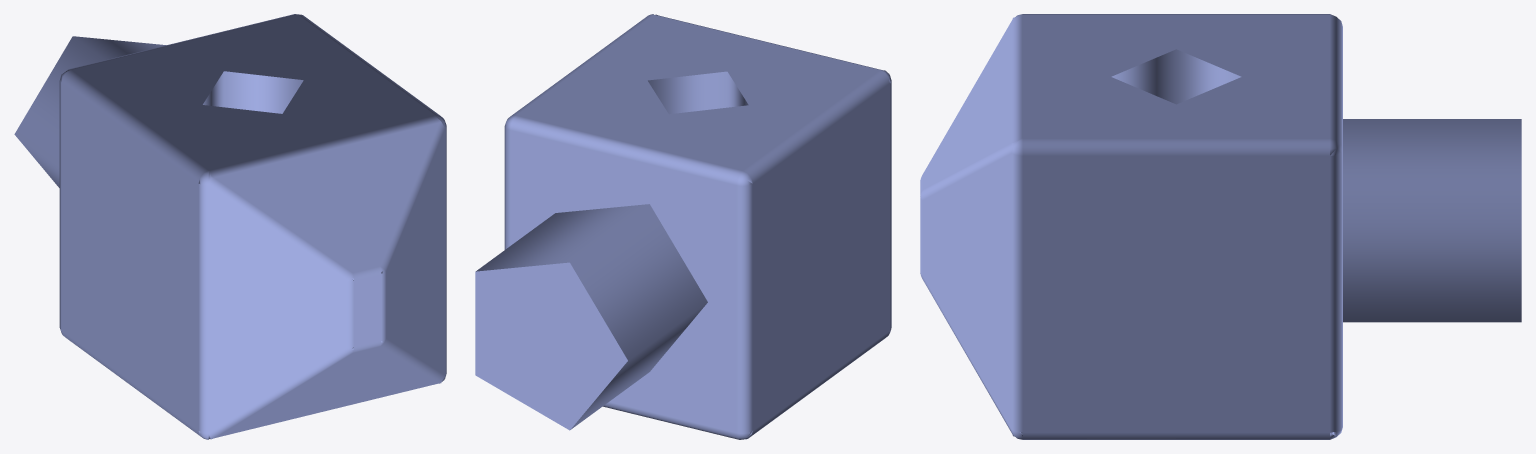
Rendered from Copie de Pi_X2_00e9_X0_ce pour pilier 1^Copie de ASS pilier 1_Horloge Comtoise Verge - Sonnerie.obj.
3 renders of one model, left to right at view 1: azimuth 30°, elevation 25°; view 2: azimuth 150°, elevation 25°; view 3: azimuth 270°, elevation 25°, orthographic. The views are drawn at different scales.
Parts seen in each view (by area): view 1: Face_9, Face_15, Face_31, Face_36, Face_35, Face_33, Face_1, Face_28, Face_16, Face_18, Face_26, Face_47 (+10 smaller); view 2: Face_9, Face_15, Face_2, Face_1, Face_3, Face_4, Face_7, Face_28, Face_16, Face_5, Face_6, Face_17 (+2 smaller); view 3: Face_13, Face_1, Face_15, Face_35, Face_36, Face_23, Face_28, Face_6, Face_24, Face_19, Face_7, Face_26 (+2 smaller).
Boxes of the visible parts, x1,y1,x2,y2 form: Face_9: (61,83,198,430); Face_15: (72,14,434,170); Face_31: (207,186,347,433); Face_36: (214,123,438,272); Face_35: (386,128,445,375); Face_33: (214,346,438,438); Face_1: (14,36,166,187); Face_28: (203,71,303,113); Face_16: (61,70,208,182); Face_18: (198,184,207,433); Face_26: (209,115,440,177); Face_47: (354,274,381,347); Face_9: (752,83,889,430); Face_15: (516,15,879,170); Face_2: (510,130,736,432); Face_1: (476,204,707,429); Face_3: (475,262,627,430); Face_4: (736,184,752,433); Face_7: (510,115,742,185); Face_28: (648,71,748,114); Face_16: (743,70,889,183); Face_5: (603,402,739,439); Face_6: (504,126,510,249); Face_17: (751,331,889,436); Face_13: (1023,156,1329,432); Face_1: (1343,119,1521,322); Face_15: (1022,15,1329,138); Face_35: (922,153,1012,429); Face_36: (923,20,1012,189); Face_23: (1023,138,1329,155); Face_28: (1111,49,1241,104); Face_6: (1330,151,1342,432); Face_24: (1012,154,1022,432); Face_19: (1023,432,1329,439); Face_7: (1330,15,1342,149); Face_26: (1012,15,1022,142).
Size of the model in its own units: 0.0073 by 0.0076 by 0.0138.
